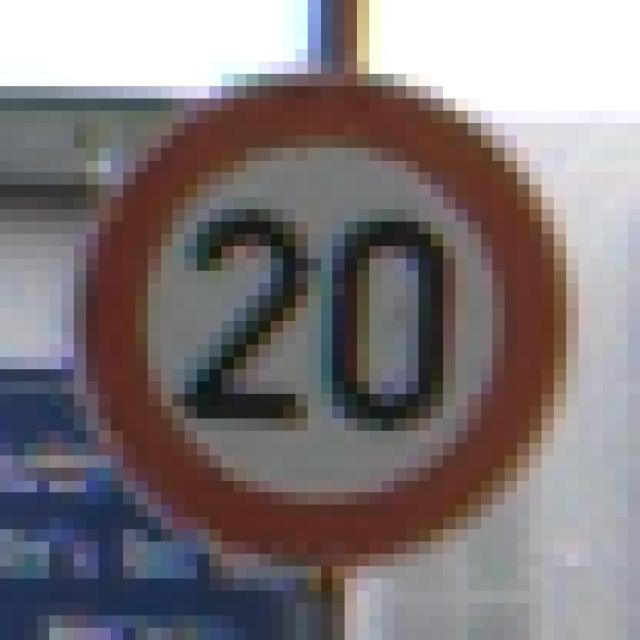forb_speed_over_20: (87, 84, 565, 561)
